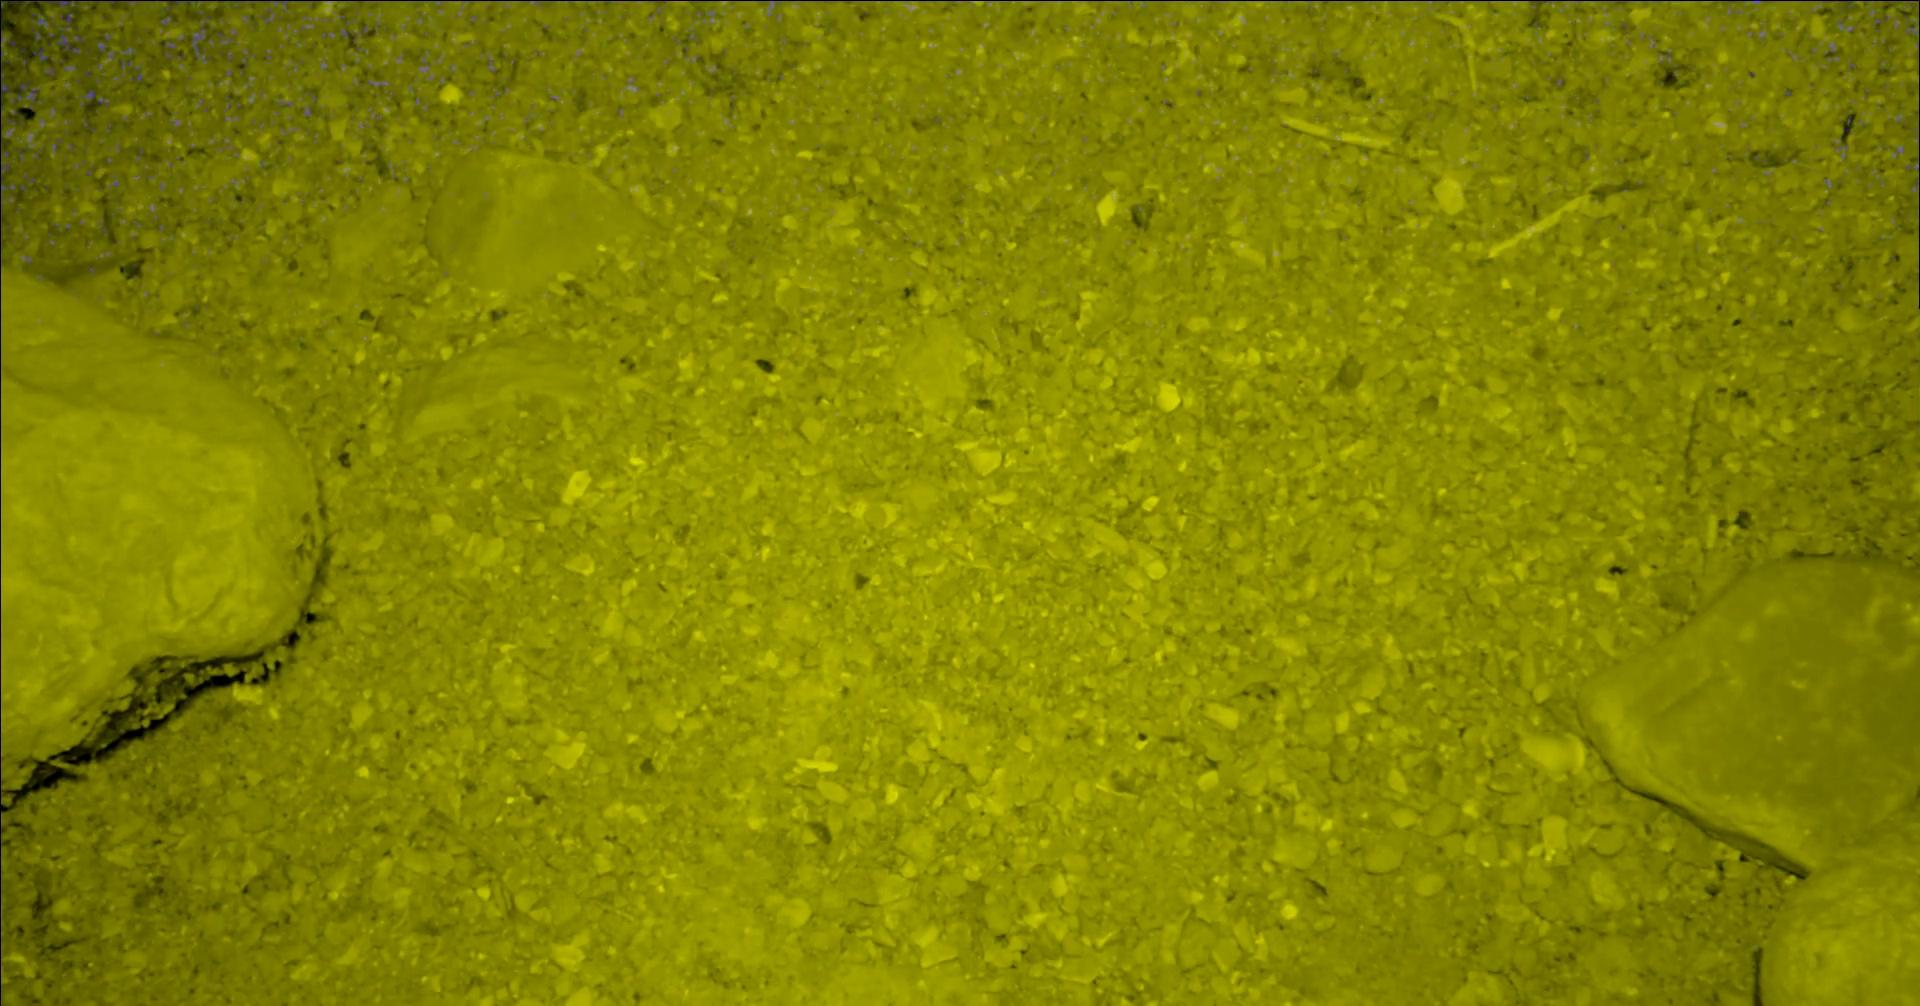ant: (1, 0, 323, 15), (1864, 0, 1920, 74), (1, 163, 17, 265), (58, 11, 83, 53), (193, 17, 213, 61), (1907, 144, 1920, 185), (342, 25, 370, 43), (122, 58, 143, 81), (11, 86, 41, 103), (1, 33, 17, 64), (33, 11, 55, 28), (77, 89, 97, 105), (1818, 0, 1857, 8), (1716, 0, 1775, 3)
